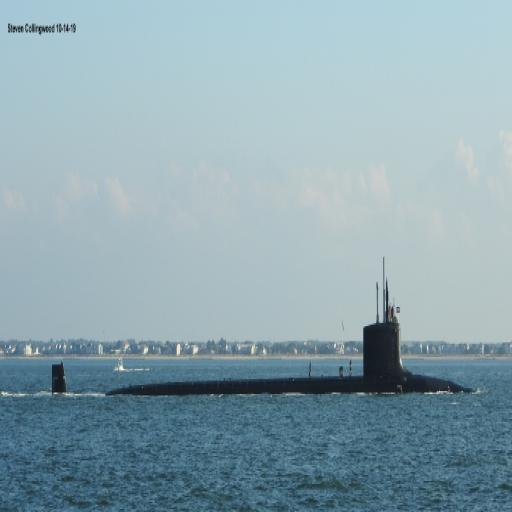submarine: (53, 261, 476, 394)
